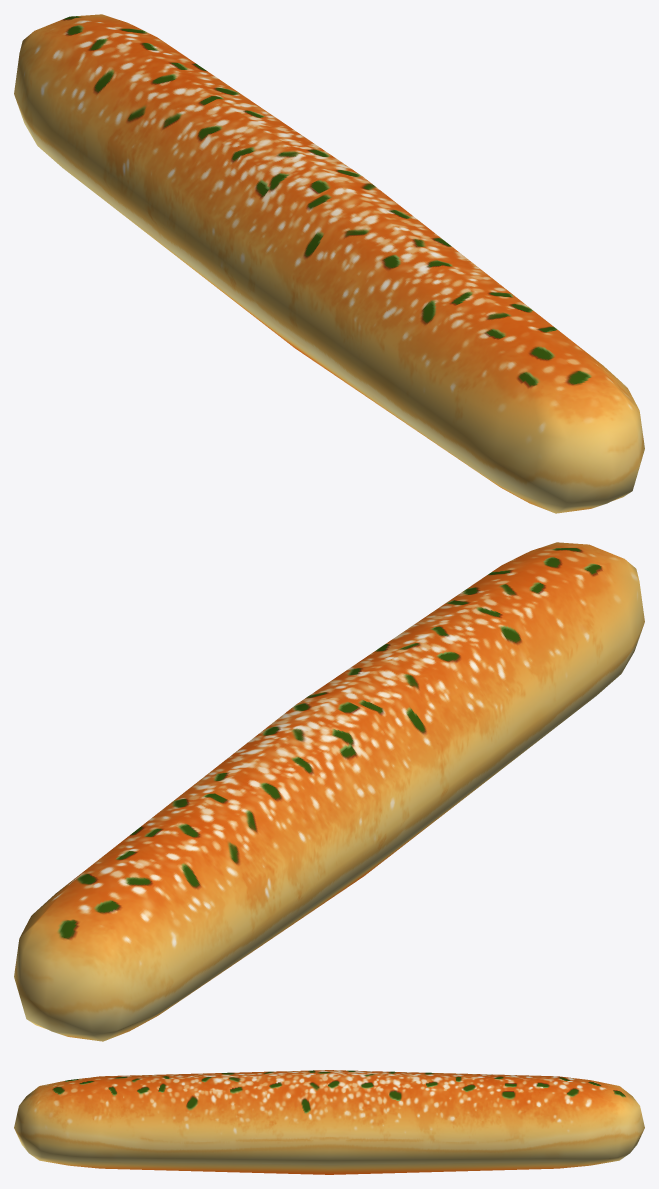
File: Breadstick_02.fbx
3 views of the same model, one above another, from view 1: azimuth 30°, elevation 25°; view 2: azimuth 150°, elevation 25°; view 3: azimuth 270°, elevation 25° (orthographic). The views are drawn at different scales.
Visible parts, largest first — view 1: Breadstick_02; view 2: Breadstick_02; view 3: Breadstick_02.
Part boxes in pixels (x1,y1,x2,y2): Breadstick_02: [14, 14, 644, 513]; Breadstick_02: [14, 542, 644, 1041]; Breadstick_02: [14, 1070, 644, 1174].
Bounding box in the file's own units: 11.96 × 11.99 × 73.27.
